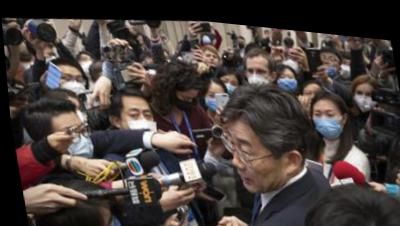NONE: (225, 124, 277, 193), (301, 79, 327, 107), (204, 46, 220, 64)
OK: (54, 117, 94, 164), (118, 100, 157, 144), (311, 99, 344, 136), (55, 68, 89, 102), (88, 198, 123, 226), (245, 57, 274, 89), (351, 77, 379, 108), (172, 86, 202, 110), (203, 83, 228, 111), (276, 64, 299, 90), (219, 71, 241, 94), (78, 54, 99, 78), (70, 99, 87, 128), (336, 51, 355, 73), (281, 48, 301, 66), (43, 48, 58, 67), (202, 31, 213, 41), (237, 34, 247, 43)
WRONG: (320, 45, 341, 71)
